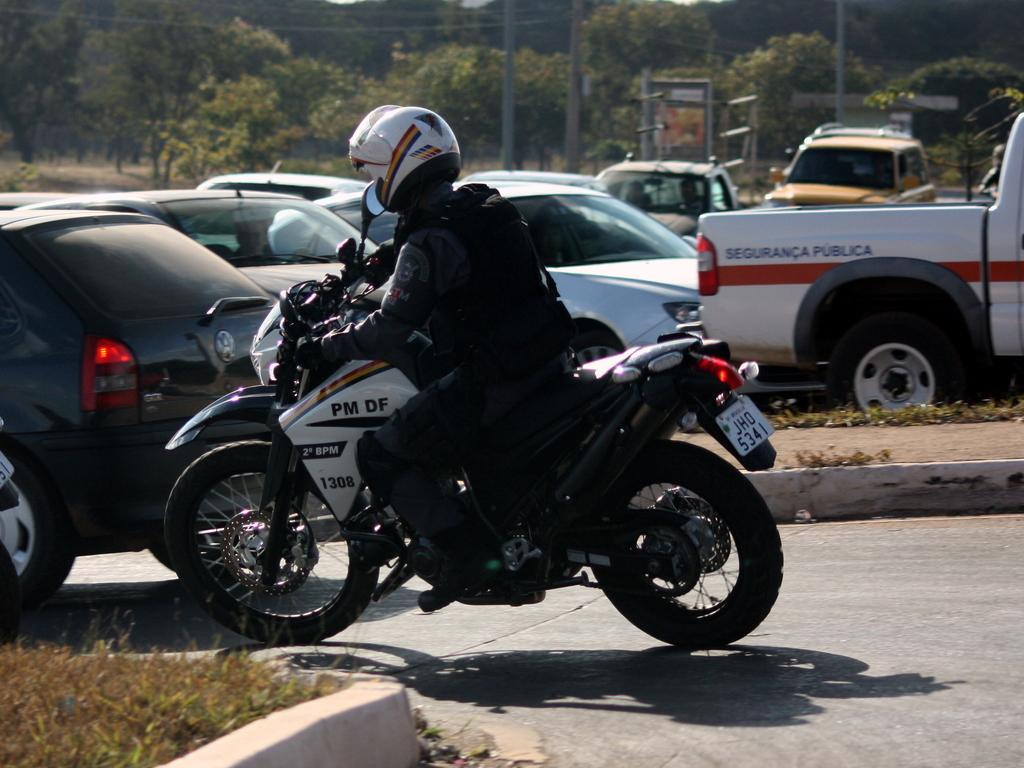helmet: (348, 103, 463, 214)
